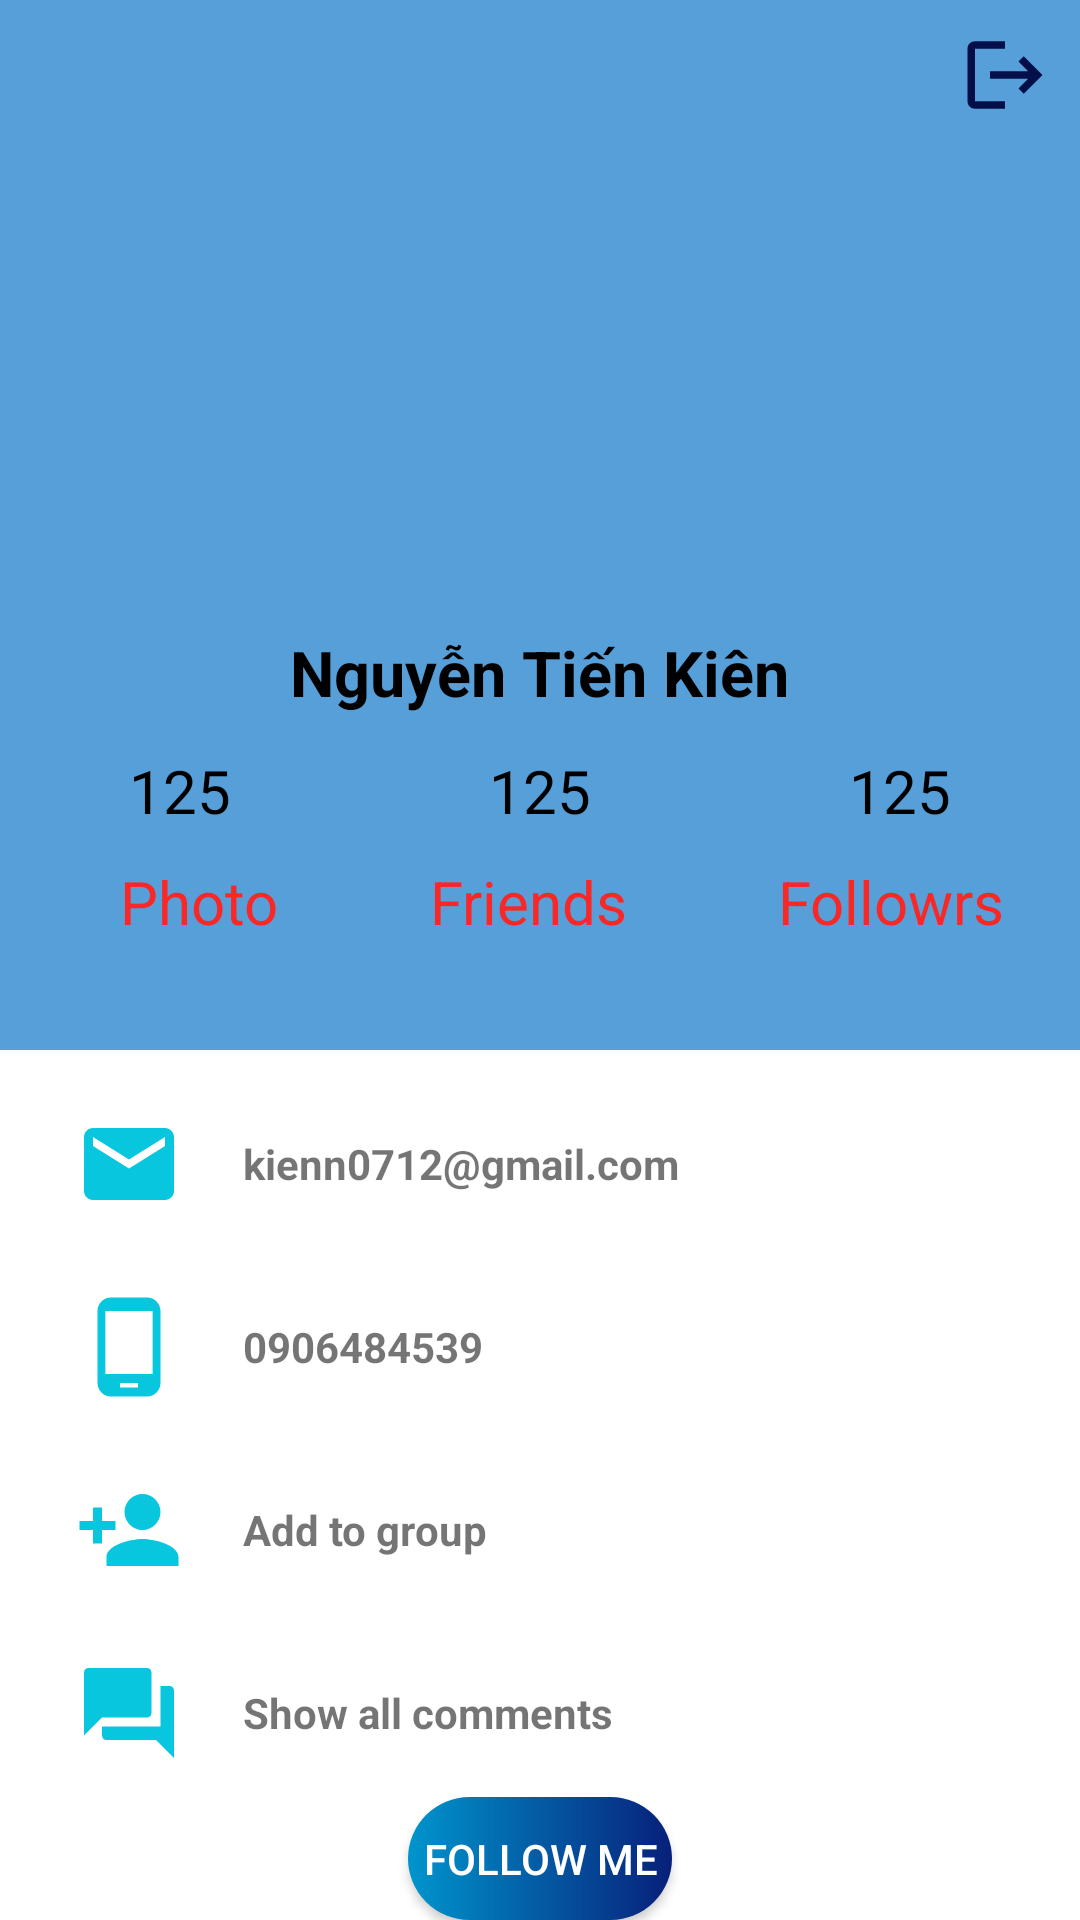

Screen size 1080×1920. Icon name, then its box in pixels as box(x1, y1, x2, y2):
email: box(84, 1128, 174, 1200)
forum: box(84, 1668, 174, 1758)
person add: box(79, 1494, 179, 1566)
phone android: box(97, 1297, 161, 1397)
